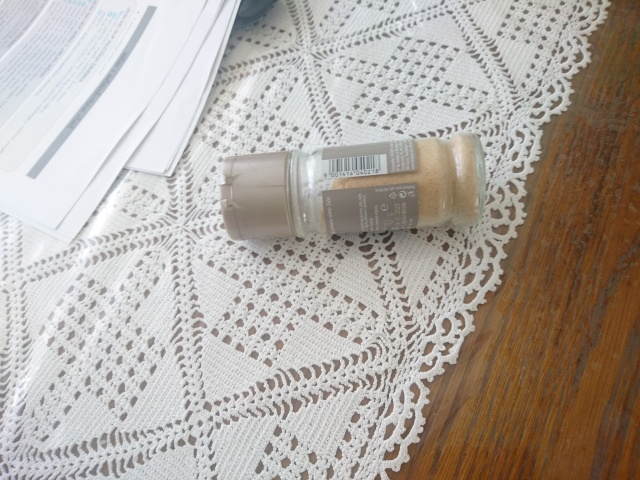Kotanyi Garlic Granules 70g: (215, 128, 490, 244)
